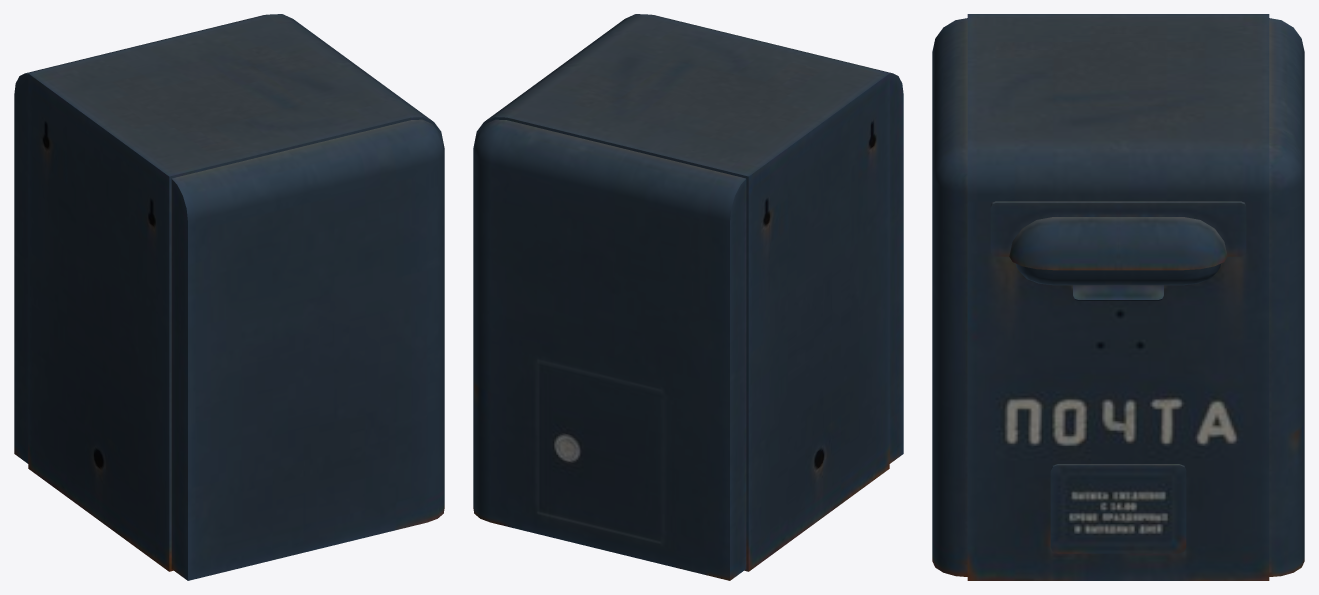
File: mailbox.glb
3 renders of one model, left to right at view 1: azimuth 30°, elevation 25°; view 2: azimuth 150°, elevation 25°; view 3: azimuth 270°, elevation 25°, orthographic. The views are drawn at different scales.
Parts seen in each view (by area): view 1: mailbox; view 2: mailbox; view 3: mailbox.
Part boxes in pixels (left/top/right/bottom): mailbox: left=14, top=14, right=444, bottom=580; mailbox: left=473, top=14, right=903, bottom=580; mailbox: left=932, top=14, right=1304, bottom=580.
Size of the model in its own units: 0.4984 by 0.62 by 0.4937.
1 material, 1 textured.
